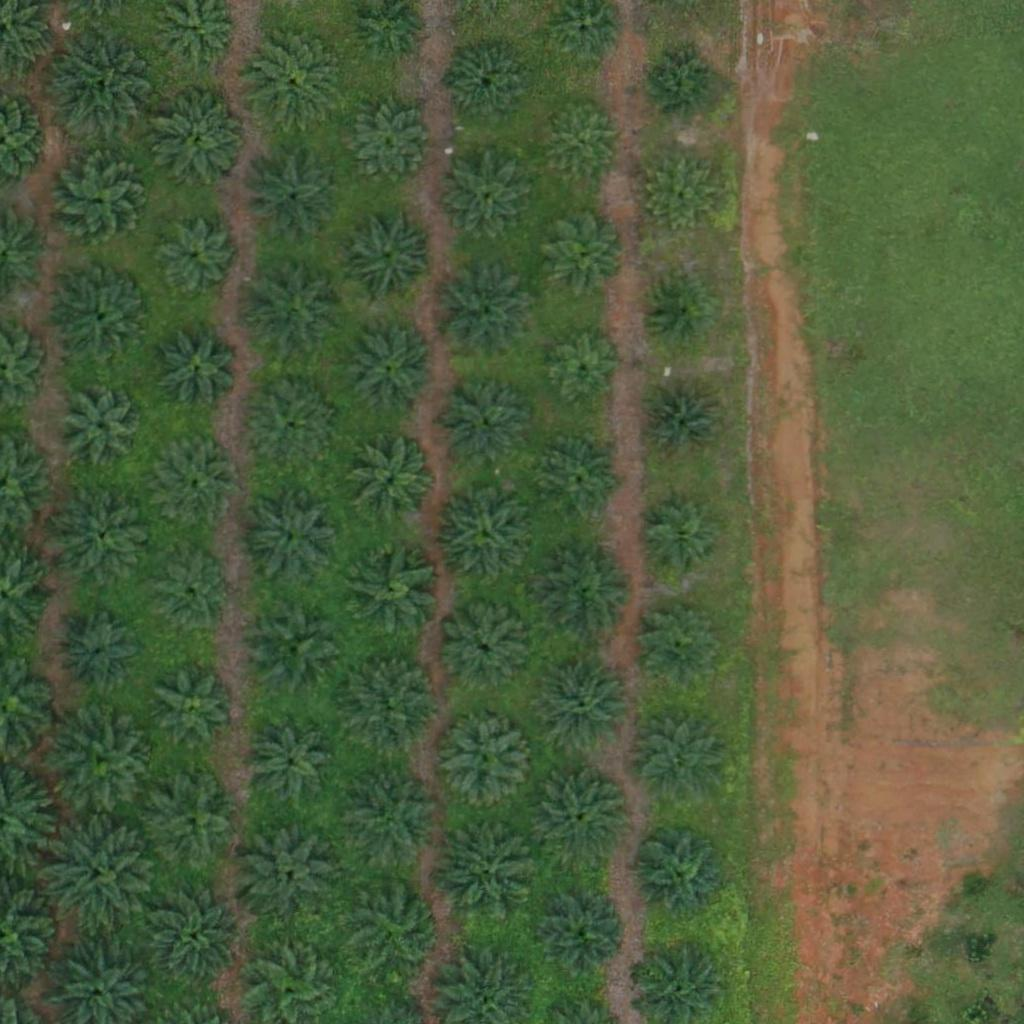Kelapa_Sawit: (43, 817, 156, 930), (44, 29, 156, 143), (248, 29, 348, 130), (431, 263, 531, 364), (336, 94, 436, 195), (336, 204, 436, 305), (242, 144, 342, 245), (55, 485, 155, 586), (245, 597, 345, 698), (340, 650, 440, 751), (345, 771, 445, 872), (436, 710, 536, 811), (435, 821, 535, 922), (538, 655, 638, 756), (531, 766, 631, 867), (630, 825, 730, 926), (534, 544, 634, 644), (434, 483, 534, 583), (340, 540, 440, 640), (245, 260, 345, 360), (240, 487, 340, 587), (150, 88, 250, 188), (49, 150, 149, 250), (53, 266, 153, 366), (53, 713, 153, 813), (141, 771, 241, 871), (239, 819, 339, 919), (348, 880, 448, 980), (446, 41, 534, 130), (442, 606, 530, 695), (636, 499, 724, 587), (539, 436, 627, 524), (441, 155, 529, 243), (440, 380, 528, 468), (153, 217, 241, 305), (247, 720, 335, 808), (536, 890, 624, 978), (537, 208, 624, 296), (640, 380, 727, 468), (345, 328, 432, 416), (348, 439, 435, 527), (248, 388, 335, 476), (60, 380, 147, 468), (153, 891, 240, 979), (636, 600, 723, 688), (636, 715, 723, 803), (162, 334, 237, 410), (160, 445, 235, 521), (63, 615, 138, 691), (157, 668, 232, 744), (548, 334, 623, 409), (640, 155, 715, 230), (647, 47, 722, 122), (542, 103, 617, 178), (152, 560, 227, 635), (645, 278, 708, 341)
